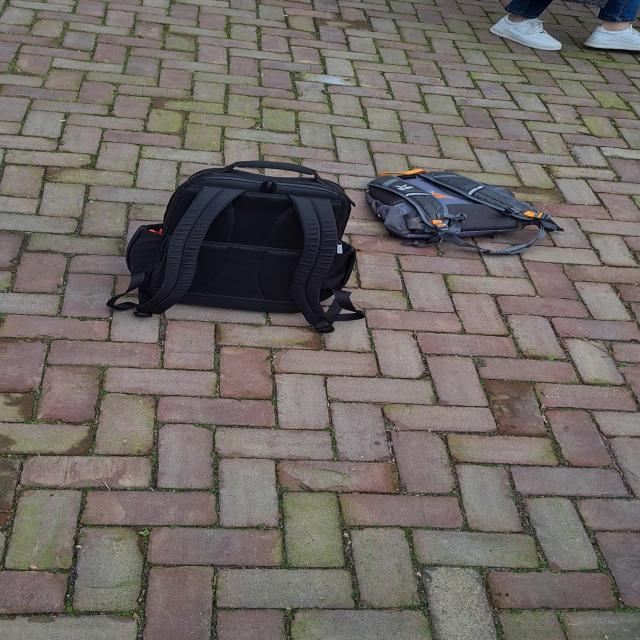backpack: (113, 155, 365, 319), (358, 166, 563, 252)
